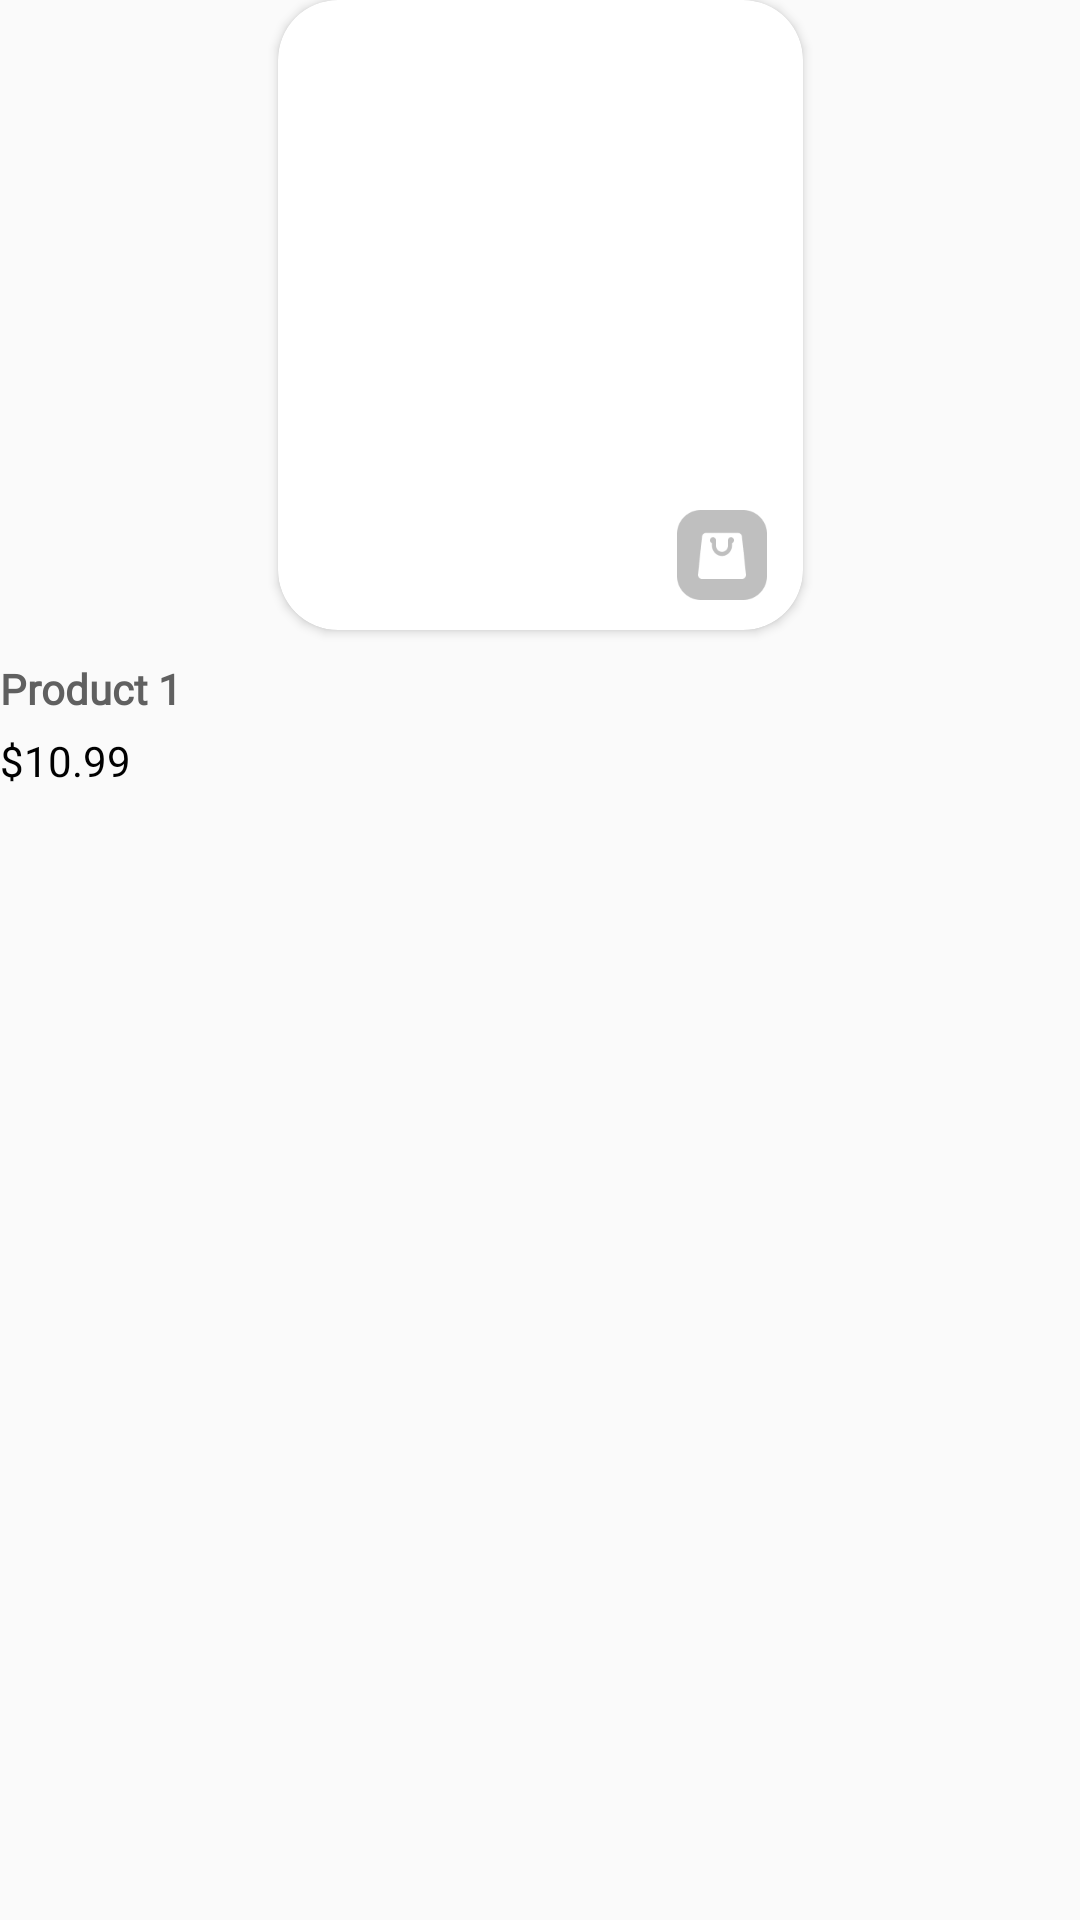

Icon bounding boxes for this 1080×1920 phone screenshot, format [x1,y1,x2,y2]:
add cart: [677,510,767,600]
